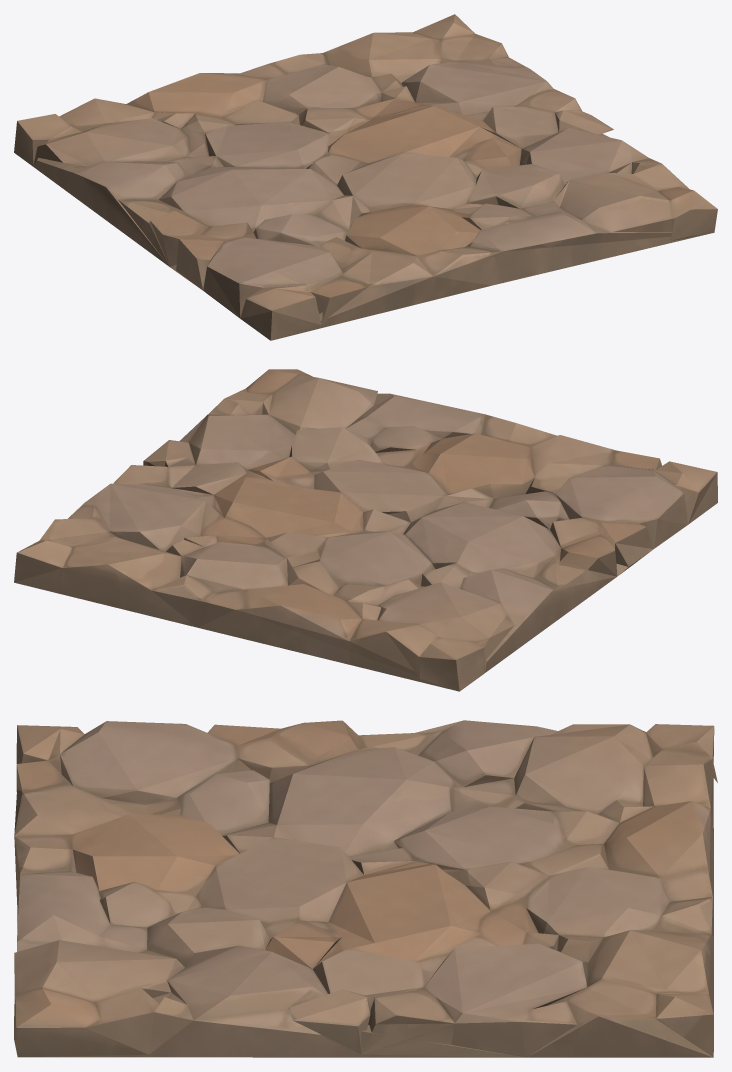
File: TWN_FLR_cobble_A.glb
The picture shows the model from 3 angles, top to bottom: view 1: azimuth 30°, elevation 25°; view 2: azimuth 150°, elevation 25°; view 3: azimuth 270°, elevation 25°; orthographic projection. The views are drawn at different scales.
Parts seen in each view (by area): view 1: Mesh_0; view 2: Mesh_0; view 3: Mesh_0.
Boxes of the visible parts, <box> form: Mesh_0: <box>14,14,717,340</box>; Mesh_0: <box>14,369,717,691</box>; Mesh_0: <box>14,720,717,1057</box>.
Bounding box in the file's own units: 1.9 × 0.1665 × 1.9.
Materials: 1 (1 with a texture image).
